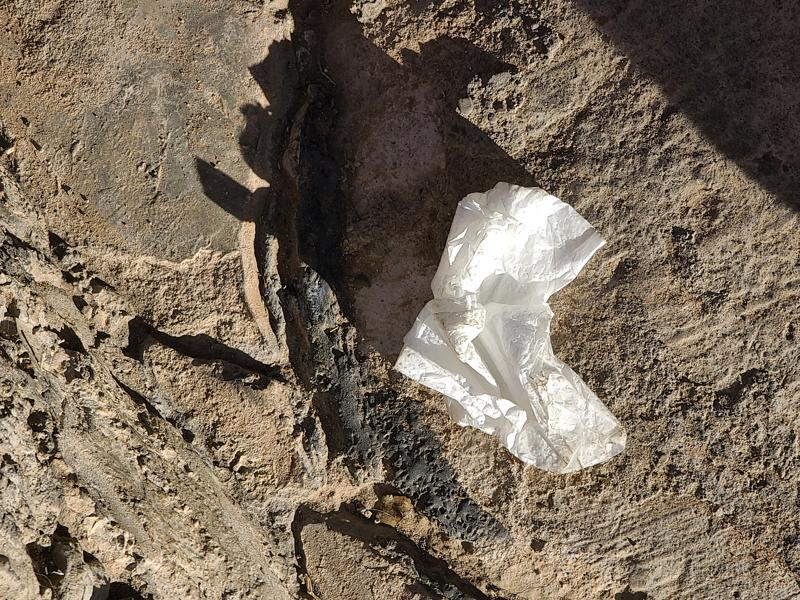papel: (396, 182, 628, 476)
